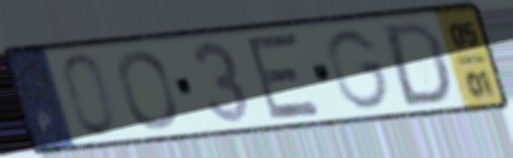0: (58, 49, 123, 141)
3: (189, 38, 252, 129)
D: (381, 18, 454, 109)
E: (243, 29, 325, 124)
G: (324, 27, 393, 113)
O: (114, 47, 181, 133)
